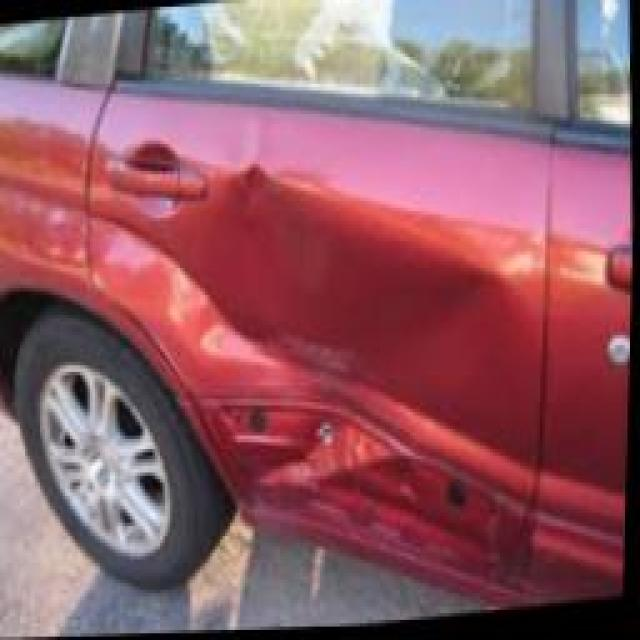replaceable: (139, 128, 535, 590)
